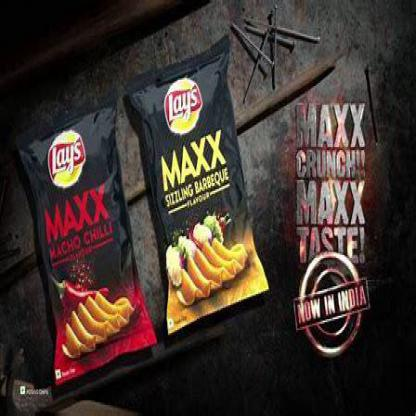max_chili: (11, 100, 152, 364)
maxx_sizzling_barbeque: (136, 66, 280, 328)
